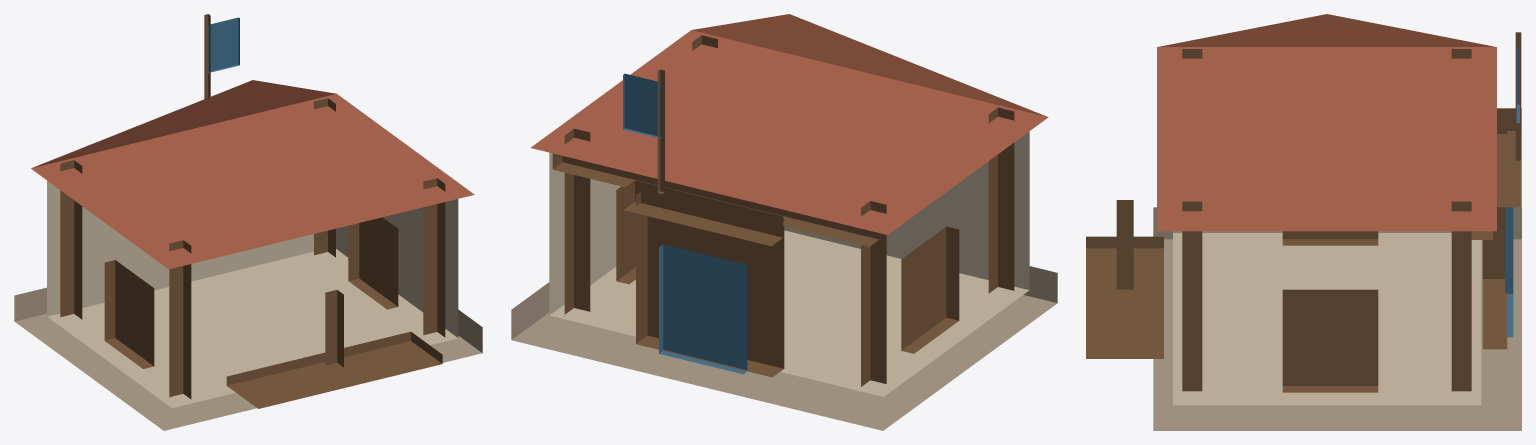
File: Barracks_authoring.glb
The picture shows the model from 3 angles, left to right: view 1: azimuth 30°, elevation 25°; view 2: azimuth 150°, elevation 25°; view 3: azimuth 270°, elevation 25°; orthographic projection. The views are drawn at different scales.
Parts seen in each view (by area): view 1: Barracks_authoring; view 2: Barracks_authoring; view 3: Barracks_authoring.
Boxes of the visible parts, x1,y1,x2,y2 form: Barracks_authoring: (14,14,482,430); Barracks_authoring: (511,14,1057,430); Barracks_authoring: (1086,14,1521,430).
Size of the model in its own units: 6.4 by 5 by 6.15.
